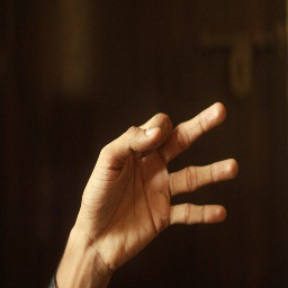K: (79, 100, 240, 248)
